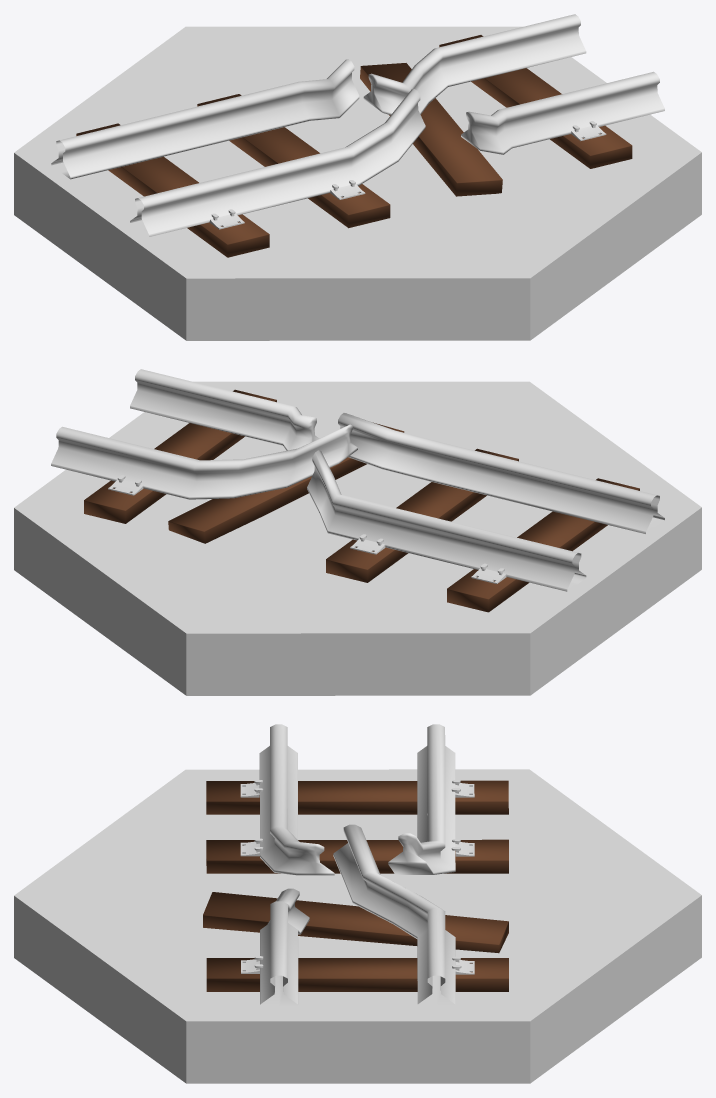
Rendered from trilho_quebrado.fbx.
3 views of the same model, one above another, from view 1: azimuth 30°, elevation 25°; view 2: azimuth 150°, elevation 25°; view 3: azimuth 270°, elevation 25° (orthographic).
Parts seen in each view (by area): view 1: trilho_quebrado; view 2: trilho_quebrado; view 3: trilho_quebrado.
Boxes of the visible parts, x1=… form: trilho_quebrado: x1=14, y1=14, x2=701, y2=340; trilho_quebrado: x1=14, y1=369, x2=701, y2=695; trilho_quebrado: x1=14, y1=724, x2=701, y2=1083.
Bounding box in the file's own units: 173 × 44.62 × 200.
